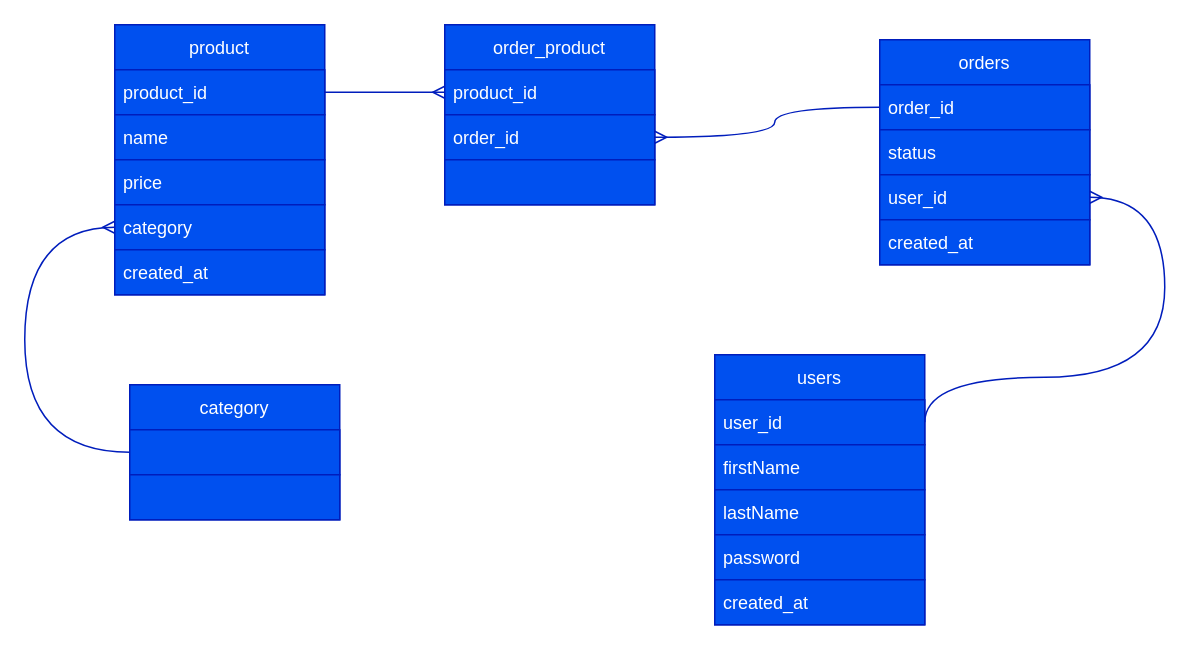
Image size: 1190x650. Some labels were removed from this diagram. Each missing label, with the centre of its shape:
category_id: the point at 234,451
description: the point at 234,496
order_quantity: the point at 549,181
